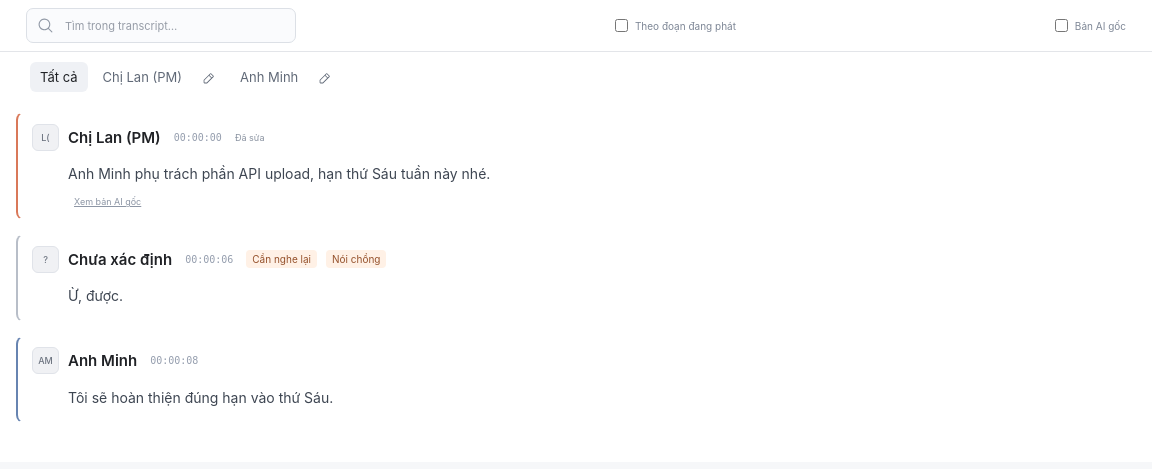
Test: FE-11 rename speaker › rejects blank names locally
Click the button named "Đổi tên Chị Lan (PM)": x=208, y=77 [192, 62, 225, 92]
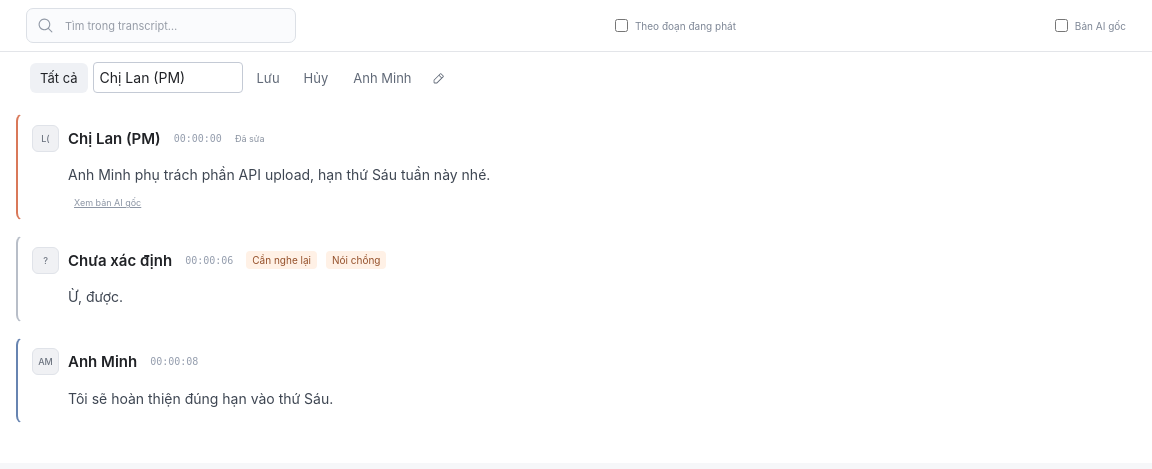
Clear the field named "Tên mới của Chị Lan (PM)": x=168, y=78 [92, 62, 242, 93]
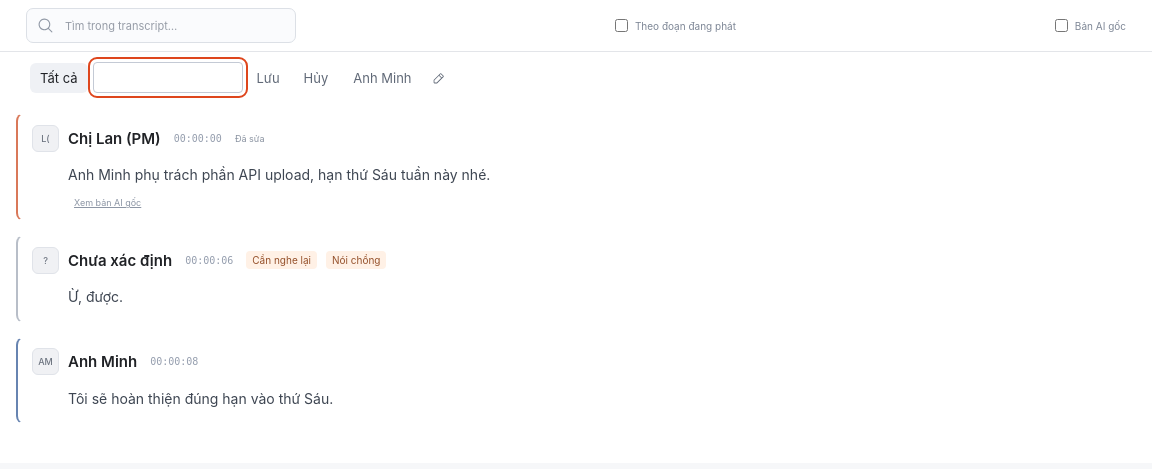
Click the button "Lưu": x=268, y=78 [246, 62, 290, 92]
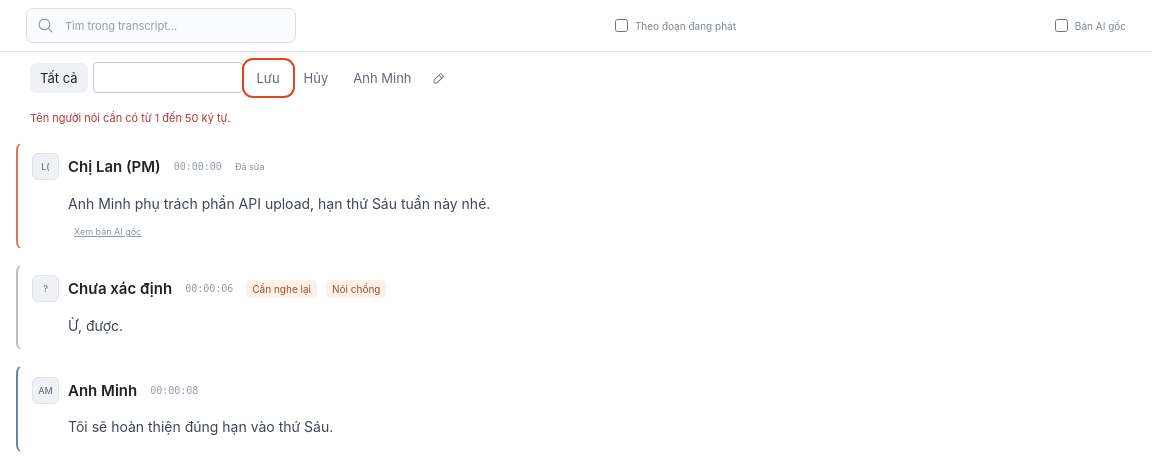
Expected: the message shows "1 đến 50 ký tự", [30, 111, 230, 125]
